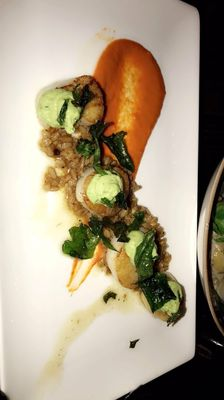curry: (62, 220, 102, 260)
